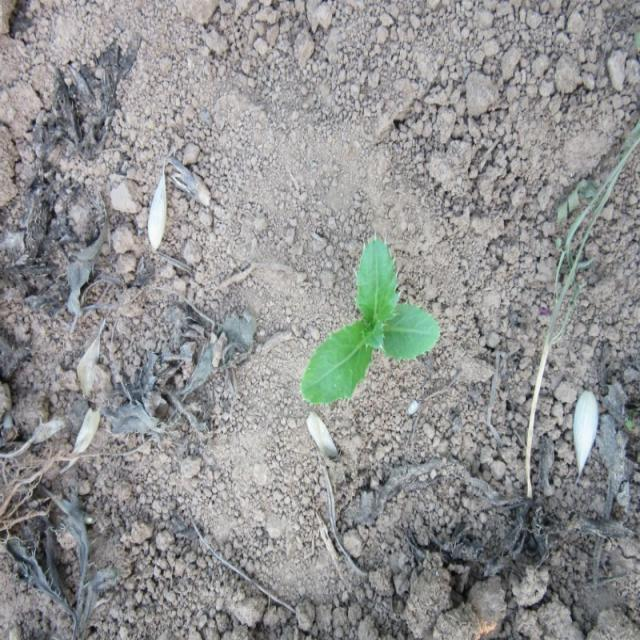cs: (299, 230, 445, 408)
